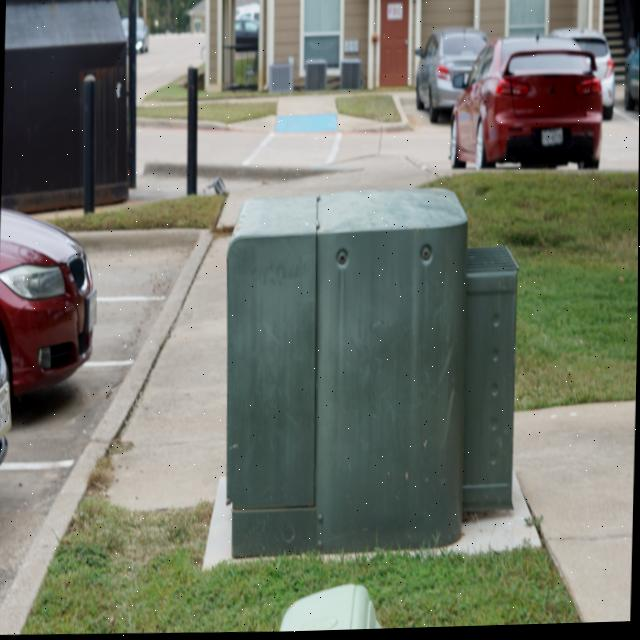Automobile: (0, 212, 98, 464), (450, 40, 602, 172), (416, 31, 487, 125), (552, 31, 615, 123), (624, 34, 640, 112)
Obstacle: (204, 191, 540, 569), (280, 586, 383, 633)
Road: (199, 128, 441, 169), (147, 130, 185, 166)
Sidewalk: (108, 237, 230, 511), (514, 405, 636, 626), (227, 96, 384, 134)
